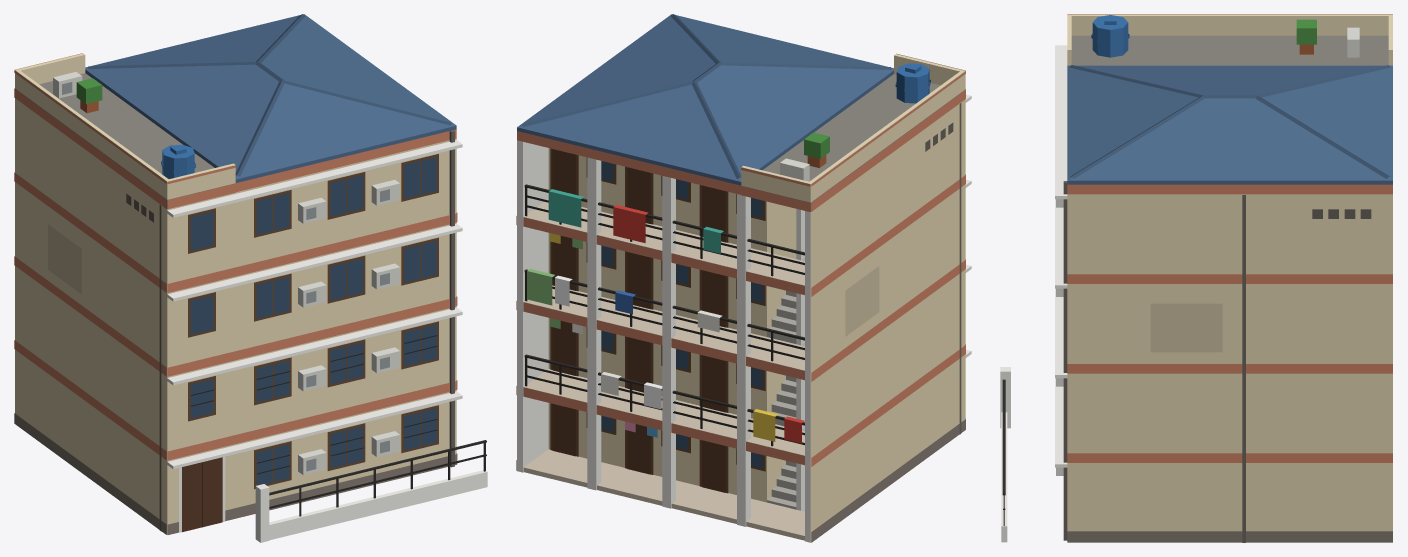
The model's file is kos_01.glb.
3 renders of one model, left to right at view 1: azimuth 30°, elevation 25°; view 2: azimuth 150°, elevation 25°; view 3: azimuth 270°, elevation 25°, orthographic. The views are drawn at different scales.
Visible parts, largest first — view 1: kos_01; view 2: kos_01; view 3: kos_01.
Boxes of the visible parts, x1,y1,x2,y2 form: kos_01: (14, 14, 487, 542); kos_01: (516, 14, 971, 542); kos_01: (1000, 14, 1392, 542).
Size of the model in its own units: 10.01 by 11.97 by 10.96.
